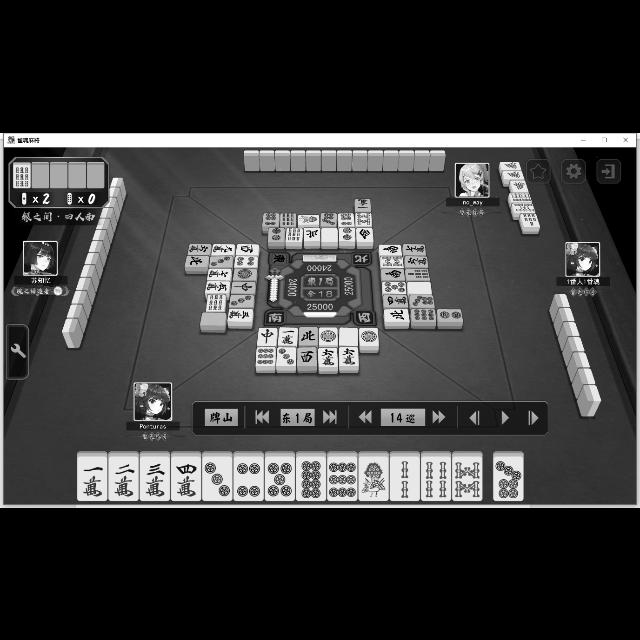1m: (76, 456, 108, 500), (278, 326, 298, 346), (354, 198, 372, 210)
1p: (359, 326, 379, 346), (320, 326, 338, 346), (234, 268, 258, 280)
1s: (359, 456, 388, 500), (297, 213, 319, 225)
2m: (109, 455, 139, 499)
2p: (438, 308, 464, 322), (268, 228, 284, 242), (340, 227, 356, 241)
2s: (390, 456, 420, 500)
3m: (140, 456, 170, 500), (227, 308, 253, 322)
3p: (202, 456, 232, 500), (278, 346, 296, 366), (230, 294, 254, 308), (210, 256, 232, 266)
4m: (171, 456, 201, 500), (382, 294, 410, 306)
4p: (234, 455, 264, 501), (236, 254, 258, 268)
4s: (421, 458, 451, 500)
5m: (204, 279, 230, 293)
5p: (264, 456, 296, 500), (383, 280, 407, 294)
5s: (512, 202, 536, 212)
6m: (318, 348, 338, 366), (339, 347, 359, 365), (405, 255, 429, 268), (188, 243, 210, 255)
6p: (338, 210, 354, 226), (262, 212, 280, 226)
6s: (509, 192, 533, 200)
7m: (208, 266, 230, 280), (402, 243, 426, 255)
7p: (494, 457, 524, 501), (410, 294, 436, 308), (320, 211, 338, 227)
7s: (406, 268, 430, 280), (521, 212, 541, 226)
8p: (296, 456, 326, 500)
8s: (452, 456, 483, 499), (378, 255, 404, 267), (355, 210, 373, 226)
9m: (212, 242, 234, 254)
9p: (327, 456, 359, 500), (410, 308, 436, 322), (257, 346, 275, 366)
9s: (14, 161, 31, 187), (205, 294, 225, 310), (280, 212, 296, 226), (286, 227, 302, 241)
chun: (258, 326, 278, 346), (230, 280, 256, 294)
haku: (338, 328, 358, 347), (200, 312, 226, 326), (407, 280, 433, 294), (320, 227, 338, 241)
hatsu: (510, 178, 530, 192), (502, 170, 524, 178), (500, 160, 522, 168)
nan: (380, 268, 406, 280), (356, 227, 374, 241), (380, 243, 402, 254)
pe: (382, 308, 410, 322), (300, 326, 318, 346), (185, 256, 209, 266), (304, 228, 322, 240)
sha: (298, 346, 316, 366), (237, 242, 260, 254)
